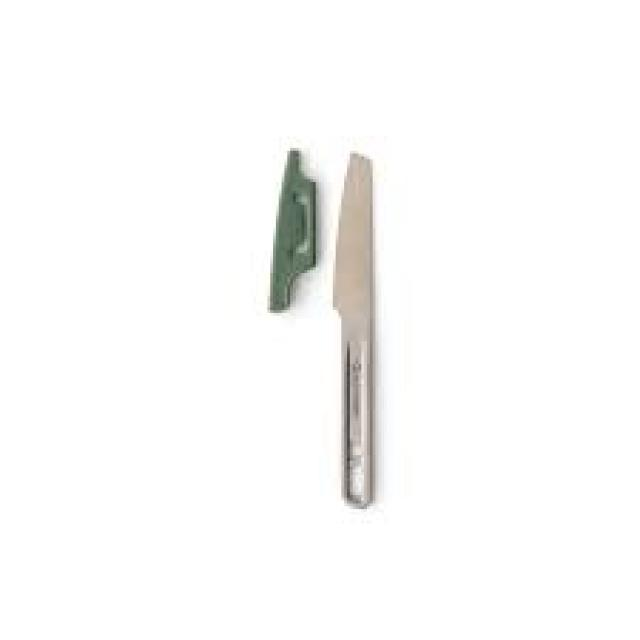Knife: (330, 151, 373, 506)
